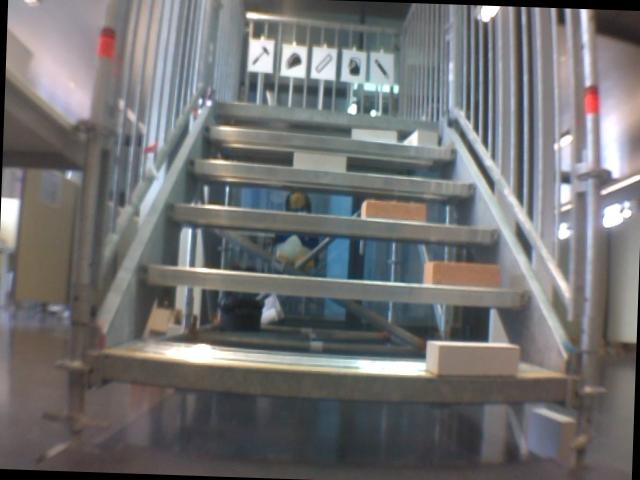brick: (426, 340, 518, 375), (423, 261, 500, 287), (361, 199, 425, 221), (293, 153, 344, 171), (351, 128, 395, 142), (406, 129, 436, 146)
bucket: (344, 53, 363, 79)
edge: (102, 352, 563, 402), (140, 265, 528, 307), (166, 204, 500, 242), (186, 159, 480, 195), (204, 126, 456, 158), (213, 103, 444, 134)
hammer: (250, 44, 270, 69)
pencil: (372, 56, 392, 81)
ruler: (312, 50, 334, 76)
steps: (95, 92, 577, 413)
taco: (283, 51, 302, 71)
